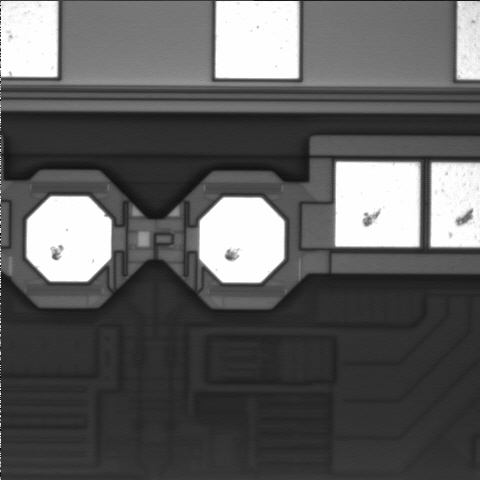pad: (199, 197, 284, 283), (335, 162, 420, 247), (27, 196, 111, 281)
